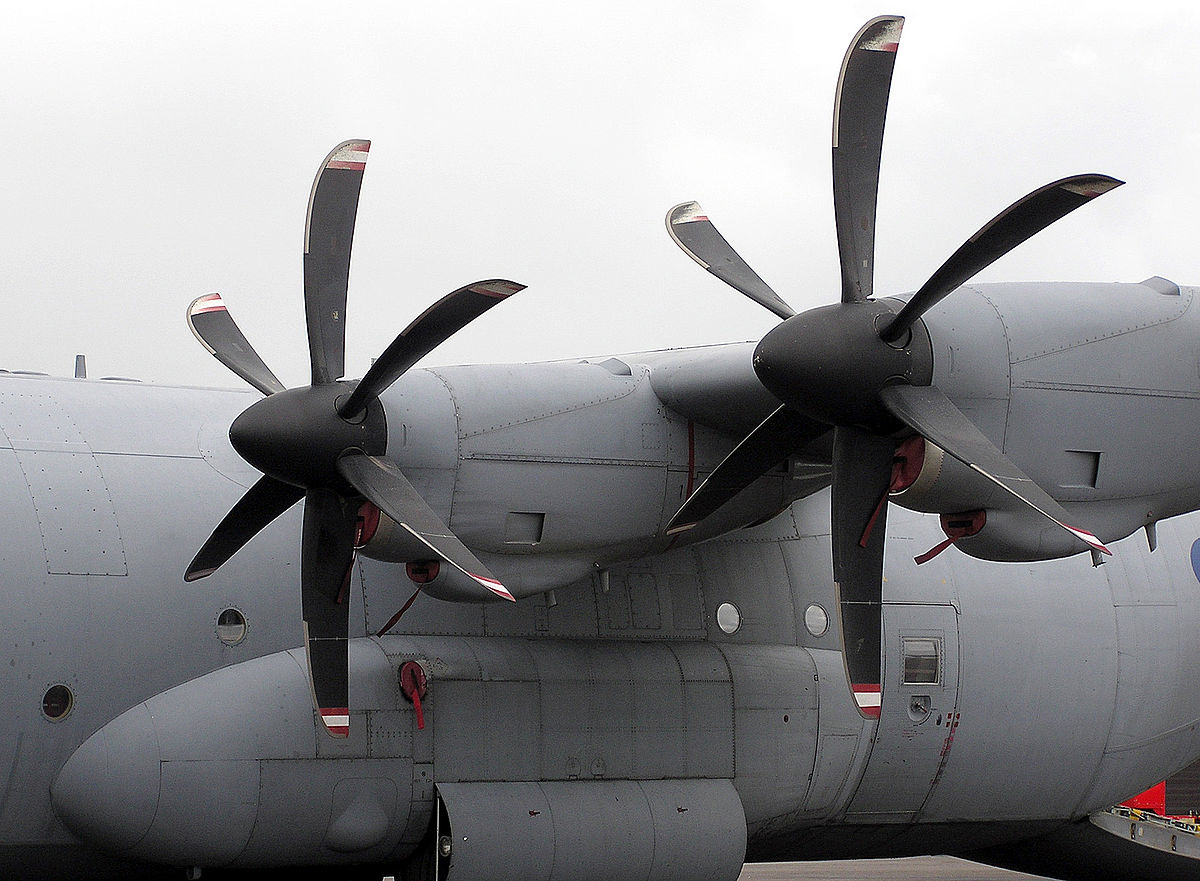Propeller: (679, 121, 1023, 628), (186, 201, 496, 623)
